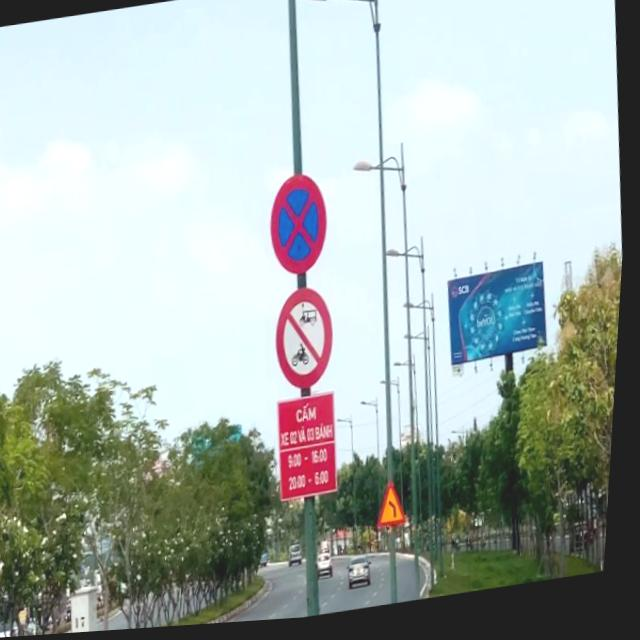Cam dung xe va do xe: (267, 173, 337, 284)
cho ngoat nguy hiem vong ben trai: (380, 484, 415, 533)
